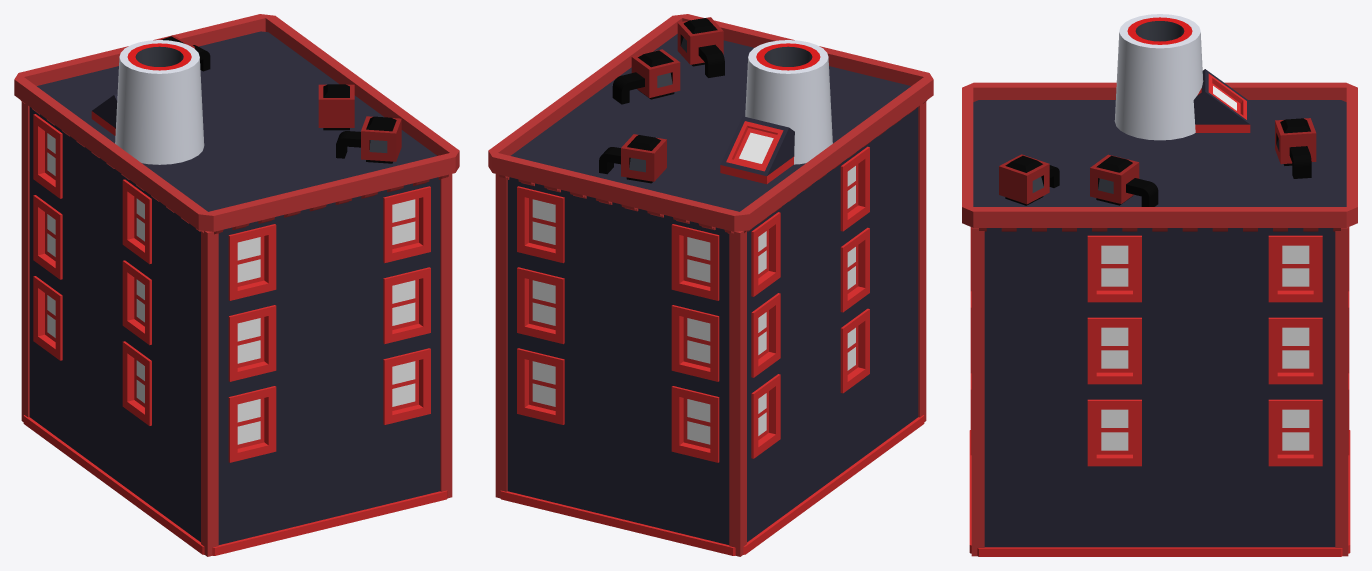
File: hangar.fbx
3 views of the same model, side by side, from view 1: azimuth 30°, elevation 25°; view 2: azimuth 150°, elevation 25°; view 3: azimuth 270°, elevation 25° (orthographic).
Parts seen in each view (by area): view 1: mergedBlocks; view 2: mergedBlocks; view 3: mergedBlocks.
Part boxes in pixels (x1,y1,x2,y2): mergedBlocks: (14,14,459,556); mergedBlocks: (488,14,933,556); mergedBlocks: (962,14,1357,556).
Size of the model in its own units: 33.75 by 52 by 43.75.
